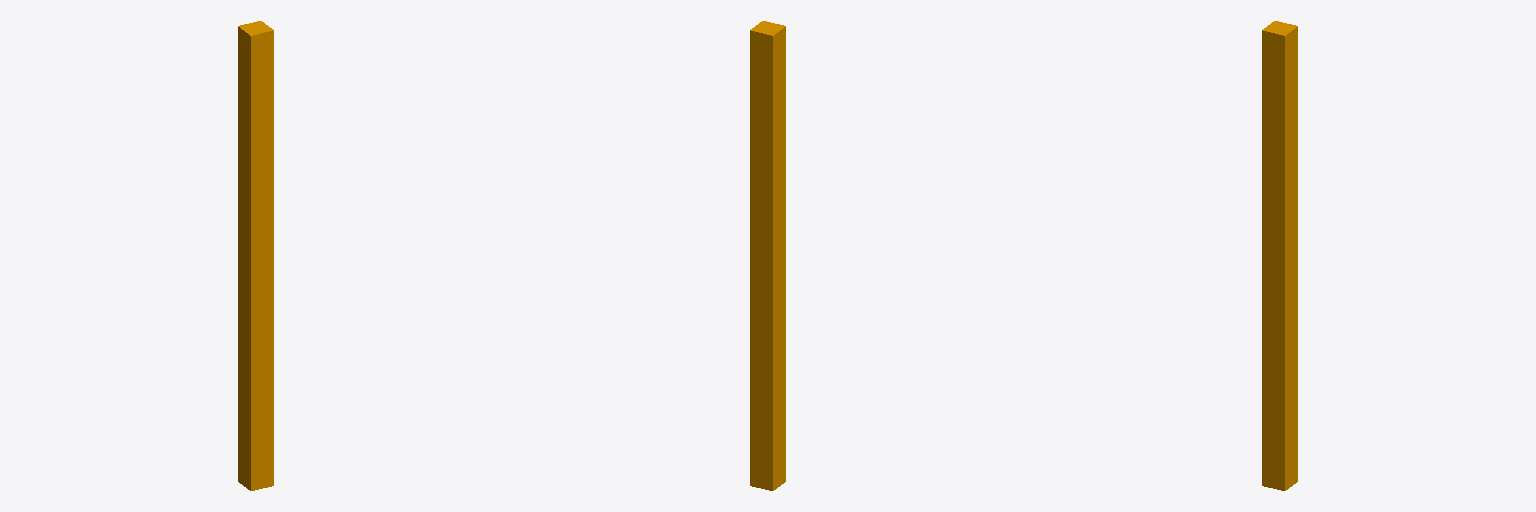
URDF robot description (bipyramid):
<?xml version='1.0' encoding='UTF-8'?>
<robot name="bipyramid">
  <link name="semantic_link">
    <inertial>
      <origin xyz="0.0 0.0 0.0" rpy="0.0 -0.0 0.0"/>
      <mass value="0.001"/>
      <inertia ixx="0.001" ixy="0.0" ixz="0.0" iyy="0.001" iyz="0.0" izz="0.001"/>
    </inertial>
    <visual name="semantic_base_link_visual">
      <geometry>
        <mesh filename="cuboidal_rod_thin_60.stl"/>
      </geometry>
    </visual>
    <collision name="semantic_base_link_collision">
      <geometry>
        <mesh filename="cuboidal_rod_thin_60.stl"/>
      </geometry>
    </collision>
  </link>
</robot>

--- Render facts (derived) ---
Views: 3 orthographic renders of the robot side by side, from view 1: azimuth 30°, elevation 25°; view 2: azimuth 150°, elevation 25°; view 3: azimuth 330°, elevation 25°.
Robot: bipyramid — 1 links, 0 joints (none); root link semantic_link; default pose: all joints at 0.
Links seen in each view (by area): view 1: semantic_link; view 2: semantic_link; view 3: semantic_link.
Link boxes in pixels (box(x1,y1,x2,y2)): semantic_link: box(238, 21, 273, 490); semantic_link: box(750, 21, 785, 490); semantic_link: box(1262, 21, 1297, 490).
Bounding box of the posed robot: 0.36 × 0.36 × 6.75 m (x, y, z).
Meshes: 1 distinct files referenced, 1 mesh visuals loaded (1 binary STL).